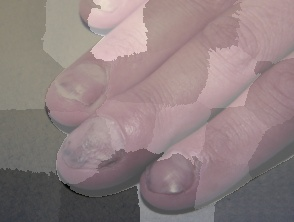Nail_psoriasis: (56, 110, 134, 172), (48, 50, 118, 119), (139, 145, 209, 209), (81, 0, 124, 18)
